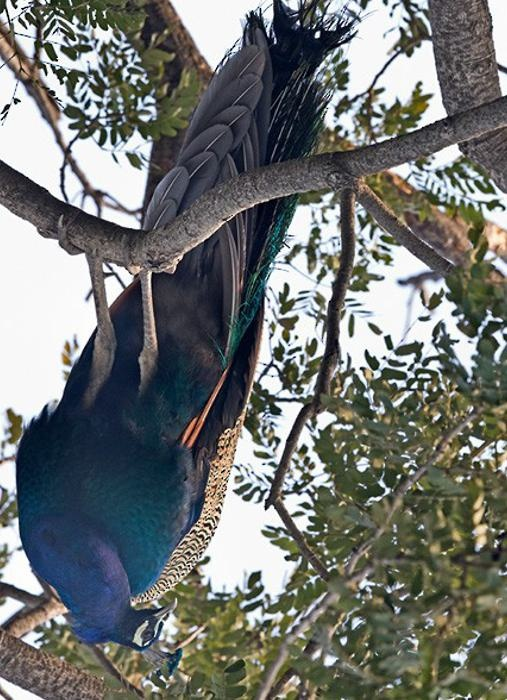peacock: (31, 56, 376, 698)
